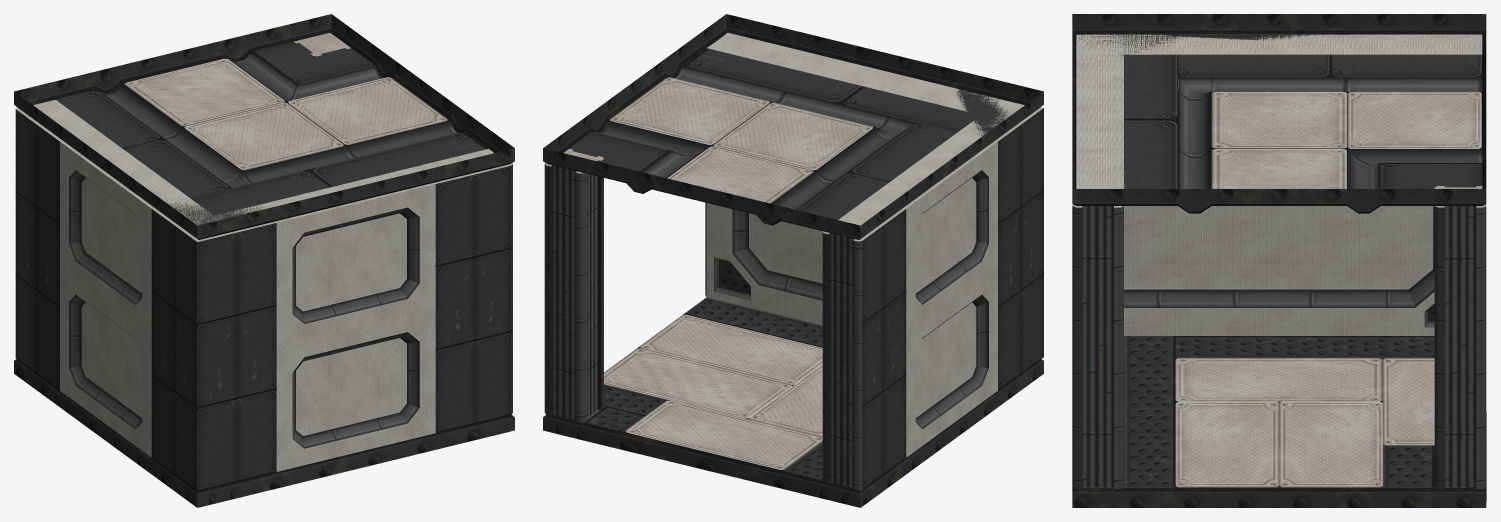
File: Corridor_Corner_Rework.fbx
3 renders of one model, left to right at view 1: azimuth 30°, elevation 25°; view 2: azimuth 150°, elevation 25°; view 3: azimuth 270°, elevation 25°, orthographic. The views are drawn at different scales.
Visible parts, largest first — view 1: Corridor_Corner_Rework; view 2: Corridor_Corner_Rework; view 3: Corridor_Corner_Rework.
Boxes of the visible parts, x1=… form: Corridor_Corner_Rework: x1=14, y1=14, x2=514, y2=507; Corridor_Corner_Rework: x1=543, y1=14, x2=1043, y2=507; Corridor_Corner_Rework: x1=1072, y1=14, x2=1486, y2=507.
Bounding box in the file's own units: 400 × 340 × 400.
